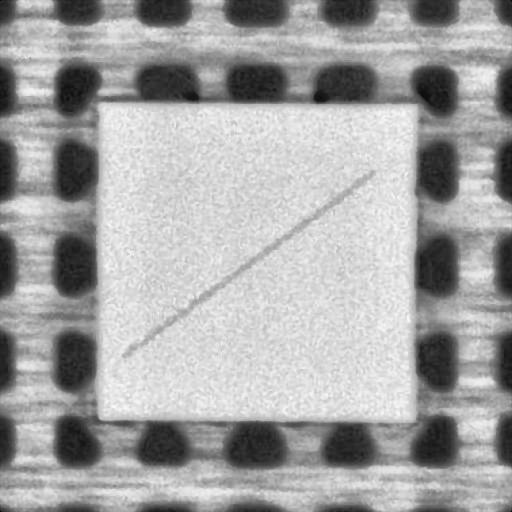DIE_CRACK: (122, 172, 372, 356)
